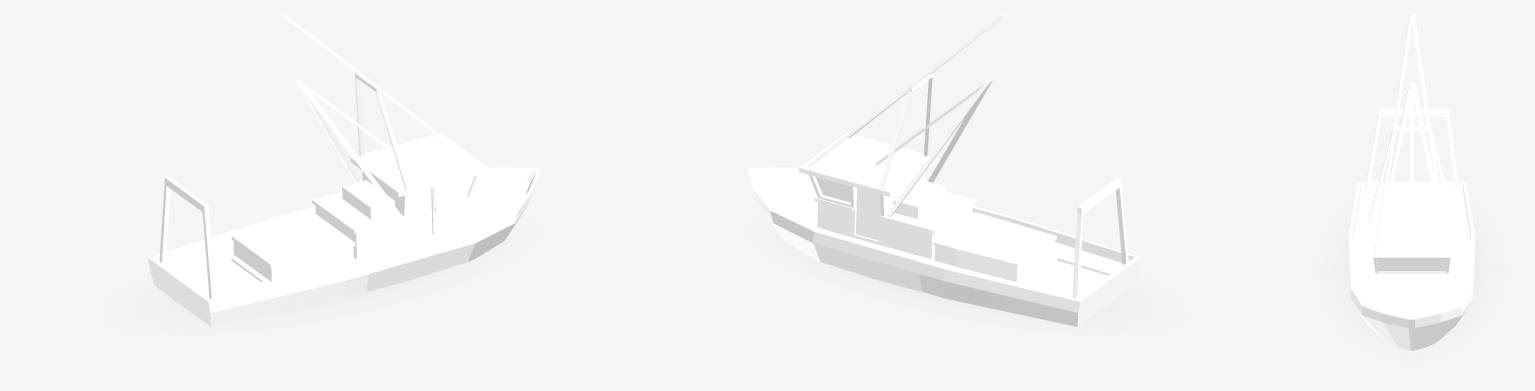
File: AIS_FishingBoat-A_001.glb
3 views of the same model, side by side, from view 1: azimuth 30°, elevation 25°; view 2: azimuth 150°, elevation 25°; view 3: azimuth 270°, elevation 25° (orthographic). The views are drawn at different scales.
Visible parts, largest first — view 1: AIS_FishingBoat-A.002, SurfaceGraphic_whiteGlow.003; view 2: AIS_FishingBoat-A.002, SurfaceGraphic_whiteGlow.003; view 3: AIS_FishingBoat-A.002, SurfaceGraphic_whiteGlow.003.
Boxes of the visible parts, left/top/right/bottom form: AIS_FishingBoat-A.002: left=148, top=14, right=540, bottom=326; SurfaceGraphic_whiteGlow.003: left=137, top=237, right=507, bottom=326; AIS_FishingBoat-A.002: left=747, top=14, right=1140, bottom=326; SurfaceGraphic_whiteGlow.003: left=780, top=237, right=1151, bottom=326; AIS_FishingBoat-A.002: left=1348, top=14, right=1475, bottom=350; SurfaceGraphic_whiteGlow.003: left=1332, top=219, right=1490, bottom=345.
Size of the model in its own units: 32.99 by 16.95 by 14.07.
Materials: 2 (1 with a texture image).
